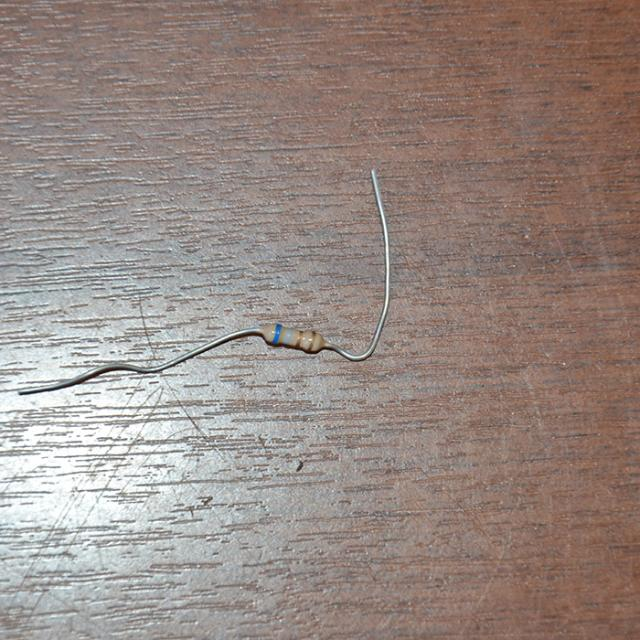blue: (272, 324, 282, 344)
gold: (307, 330, 317, 352), (297, 330, 304, 344)
grey: (284, 328, 293, 343)
resistor: (260, 310, 329, 365)
